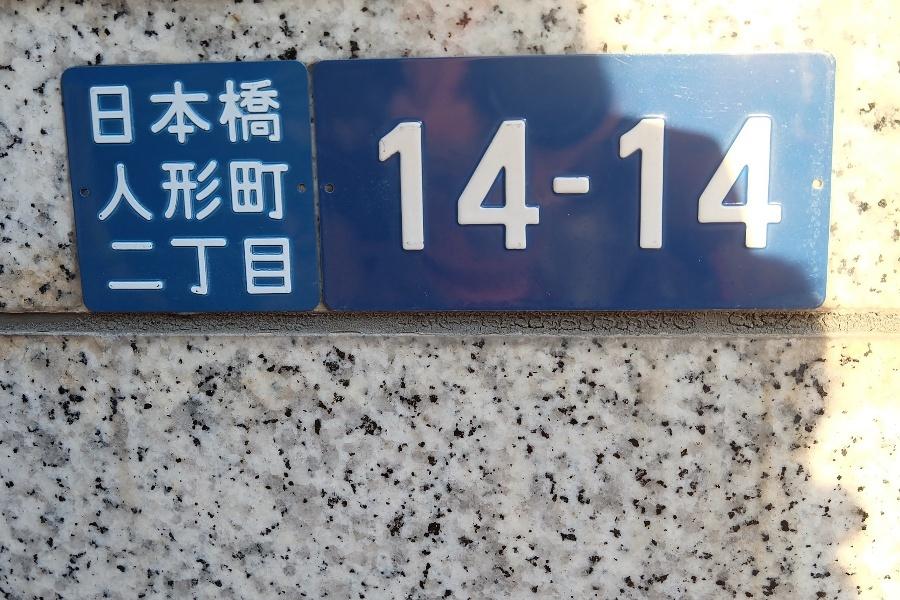text: (385, 116, 400, 251), (401, 116, 416, 251), (417, 116, 432, 251), (433, 116, 448, 251), (449, 116, 464, 251), (465, 116, 480, 251), (481, 116, 496, 251), (497, 116, 512, 251), (513, 116, 528, 251), (529, 116, 544, 251), (545, 116, 560, 251), (561, 116, 576, 251), (577, 116, 592, 251), (593, 116, 608, 251), (609, 116, 624, 251), (625, 116, 640, 251), (641, 116, 656, 251), (657, 116, 672, 251), (673, 116, 688, 251), (689, 116, 704, 251), (705, 116, 720, 251), (721, 116, 736, 251), (737, 116, 752, 251), (753, 116, 768, 251), (769, 116, 784, 251), (97, 79, 112, 147), (113, 79, 128, 147), (129, 79, 144, 147), (145, 79, 160, 147), (161, 79, 176, 147), (177, 79, 192, 147), (193, 79, 208, 147), (209, 79, 224, 147), (225, 79, 240, 147), (241, 79, 256, 147), (257, 79, 272, 147), (97, 161, 112, 224), (113, 161, 128, 224), (129, 161, 144, 224), (145, 161, 160, 224), (161, 161, 176, 224), (177, 161, 192, 224), (193, 161, 208, 224), (209, 161, 224, 224), (225, 161, 240, 224), (241, 161, 256, 224), (257, 161, 272, 224), (273, 161, 288, 224), (377, 116, 384, 251), (113, 238, 128, 297), (129, 238, 144, 297), (145, 238, 160, 297), (161, 238, 176, 297), (177, 238, 192, 297), (193, 238, 208, 297), (209, 238, 224, 297), (225, 238, 240, 297), (241, 238, 256, 297), (257, 238, 272, 297), (273, 238, 288, 297), (273, 79, 284, 147), (88, 79, 96, 147), (785, 116, 787, 251), (109, 238, 112, 297), (289, 161, 291, 224), (289, 238, 291, 297)
